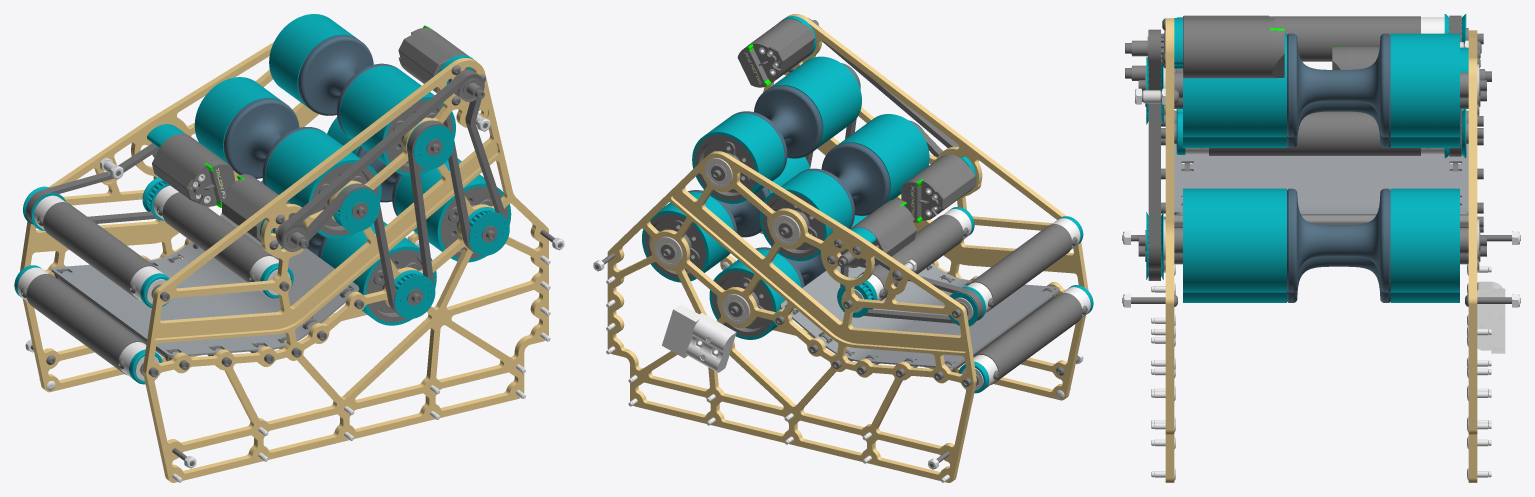
File: Shooter.glb
The picture shows the model from 3 angles, left to right: view 1: azimuth 30°, elevation 25°; view 2: azimuth 150°, elevation 25°; view 3: azimuth 270°, elevation 25°; orthographic projection. The views are drawn at different scales.
Parts seen in each view (by area): view 1: Part 21, HardWheel Tire-.4__Boss-Extrude1 (×13), Part 30, Part 23, Part 28 (×3), 211T 5M 9mm Wide DS Belt, Kraken X44 Brushless Motor (×3), Short Grip Tape (×2), 24t Custom HTD 5mm Pulley (0.375" Wide, 1/2" Hex Bore w/ TTB (×4), HardWheels-4-50A_hub-fake_1__NONE (×4), Long Grip Tape, 80T 5M 9mm Wide Belt (+2 smaller); view 2: Part 23, HardWheel Tire-.4__Boss-Extrude1 (×13), Part 21, Part 28 (×4), Kraken X44 Brushless Motor (×3), Part 30, Short Grip Tape (×2), HardWheels-4-50A_hub-fake_1__NONE (×4), Long Grip Tape, mesh3293_mesh, 211T 5M 9mm Wide DS Belt, 80T 5M 9mm Wide Belt (+3 smaller); view 3: HardWheel Tire-.4__Boss-Extrude1 (×10), Part 28 (×4), Part 30, Short Grip Tape (×2), Kraken X44 Brushless Motor (×2), Part 21, Part 23, 211T 5M 9mm Wide DS Belt, mesh3293_mesh, 8.5 in. Rounded Hex Shaft, 3DP Motor Spacer, 80T 5M 9mm Wide Belt.
Part boxes in pixels (x1,y1,x2,y2): Part 21: (142, 58, 548, 482); HardWheel Tire-.4__Boss-Extrude1 (×13): (194, 14, 511, 325); Part 30: (51, 214, 359, 356); Part 23: (20, 42, 418, 392); Part 28 (×3): (223, 35, 402, 215); 211T 5M 9mm Wide DS Belt: (277, 70, 507, 318); Kraken X44 Brushless Motor (×3): (152, 25, 468, 242); Short Grip Tape (×2): (43, 192, 278, 299); 24t Custom HTD 5mm Pulley (0.375" Wide, 1/2" Hex Bore w/ TTB (×4): (333, 120, 509, 318); HardWheels-4-50A_hub-fake_1__NONE (×4): (311, 100, 507, 322); Long Grip Tape: (26, 273, 146, 375); 80T 5M 9mm Wide Belt: (26, 143, 159, 223); Part 23: (607, 151, 976, 482); HardWheel Tire-.4__Boss-Extrude1 (×13): (642, 56, 929, 339); Part 21: (720, 14, 1088, 400); Part 28 (×4): (688, 85, 890, 287); Kraken X44 Brushless Motor (×3): (737, 19, 975, 267); Part 30: (780, 263, 1059, 368); Short Grip Tape (×2): (858, 214, 1072, 312); HardWheels-4-50A_hub-fake_1__NONE (×4): (644, 135, 823, 336); Long Grip Tape: (973, 292, 1082, 384); mesh3293_mesh: (662, 304, 736, 372); 211T 5M 9mm Wide DS Belt: (802, 18, 959, 167); 80T 5M 9mm Wide Belt: (840, 256, 983, 323); HardWheel Tire-.4__Boss-Extrude1 (×10): (1183, 33, 1459, 292); Part 28 (×4): (1287, 33, 1390, 302); Part 30: (1174, 144, 1468, 215); Short Grip Tape (×2): (1209, 16, 1420, 155); Kraken X44 Brushless Motor (×2): (1183, 15, 1379, 78); Part 21: (1165, 18, 1174, 482); Part 23: (1468, 30, 1477, 482); 211T 5M 9mm Wide DS Belt: (1148, 29, 1160, 280); mesh3293_mesh: (1477, 281, 1505, 353); 8.5 in. Rounded Hex Shaft: (1174, 215, 1468, 227); 3DP Motor Spacer: (1174, 18, 1182, 68); 80T 5M 9mm Wide Belt: (1449, 15, 1461, 156).
Bounding box in the file's own units: 0.429 × 0.3475 × 0.2921.
